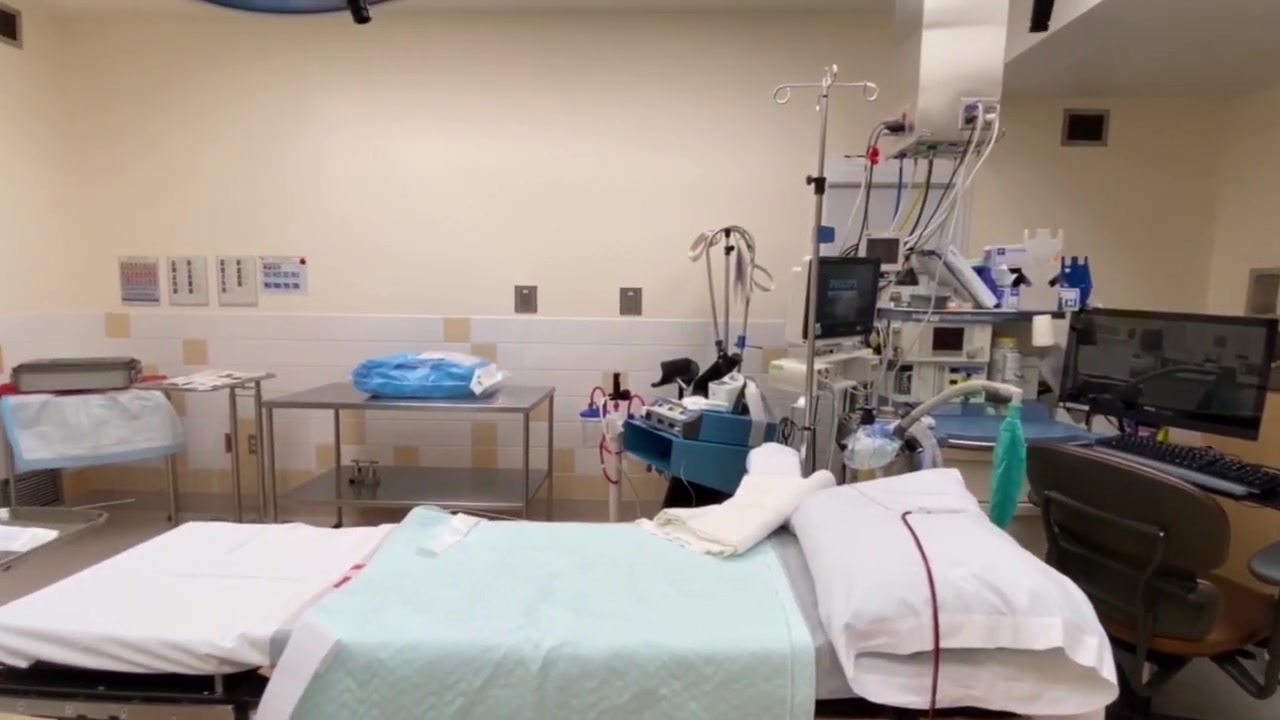bedside_monitor: (782, 253, 881, 348), (859, 231, 905, 271)
breathing_tube: (885, 382, 1023, 470)
chair: (1026, 442, 1280, 707)
computer: (1058, 305, 1280, 444)
electrosurgical_unit: (641, 396, 760, 447)
iv_pole: (774, 62, 879, 476), (696, 226, 755, 358)
keyboard: (1091, 430, 1280, 494)
medical_drawer: (904, 408, 1062, 527)
operating_bed: (1, 467, 1104, 720)
surgical_light: (205, 1, 389, 16)
utility_cart: (257, 381, 557, 533), (128, 370, 276, 527)
